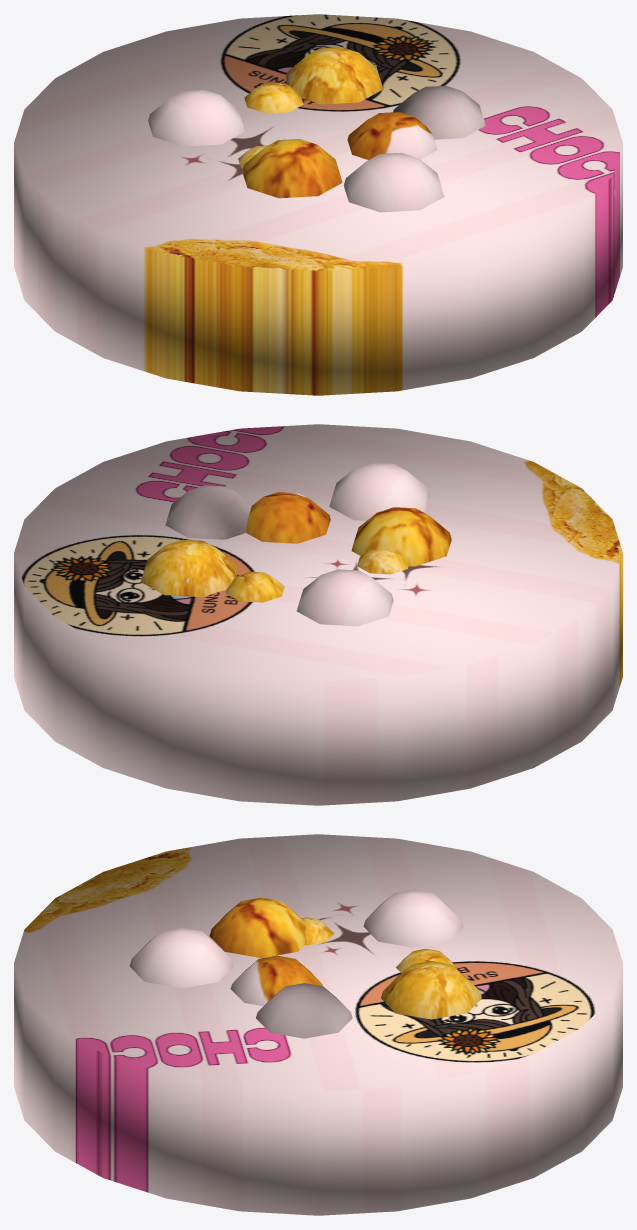
The model's file is prop_chocolate_chip_cookie.glb.
The picture shows the model from 3 angles, top to bottom: view 1: azimuth 30°, elevation 25°; view 2: azimuth 150°, elevation 25°; view 3: azimuth 270°, elevation 25°; orthographic projection.
Parts seen in each view (by area): view 1: prop_chocolate_chip_cookie; view 2: prop_chocolate_chip_cookie; view 3: prop_chocolate_chip_cookie.
Boxes of the visible parts, left/top/right/bottom form: prop_chocolate_chip_cookie: left=14, top=14, right=622, bottom=395; prop_chocolate_chip_cookie: left=14, top=424, right=622, bottom=805; prop_chocolate_chip_cookie: left=14, top=834, right=622, bottom=1215.
Size of the model in its own units: 0.08 by 0.0229 by 0.08.
1 material, 1 textured.
